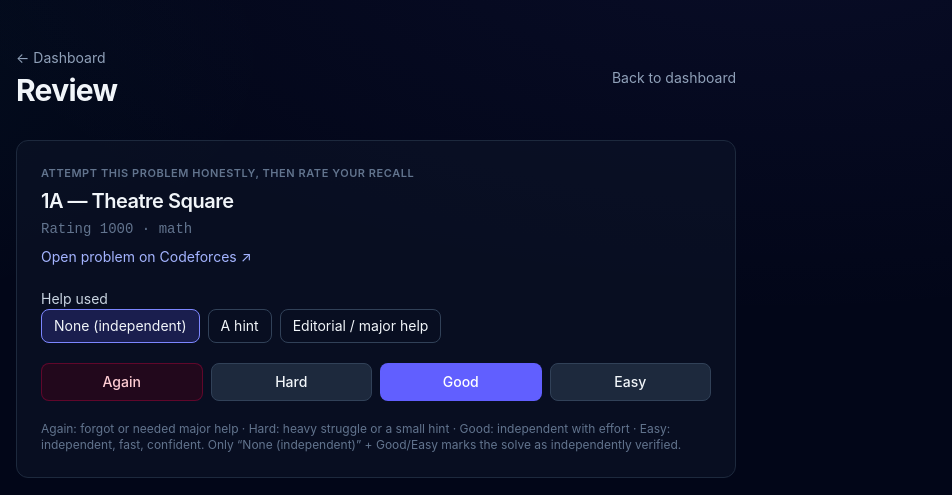
Scenario: successful completion shows only the backend-confirmed next due date
Click the button "Good".
click(461, 382)  # box [380,363,542,401]
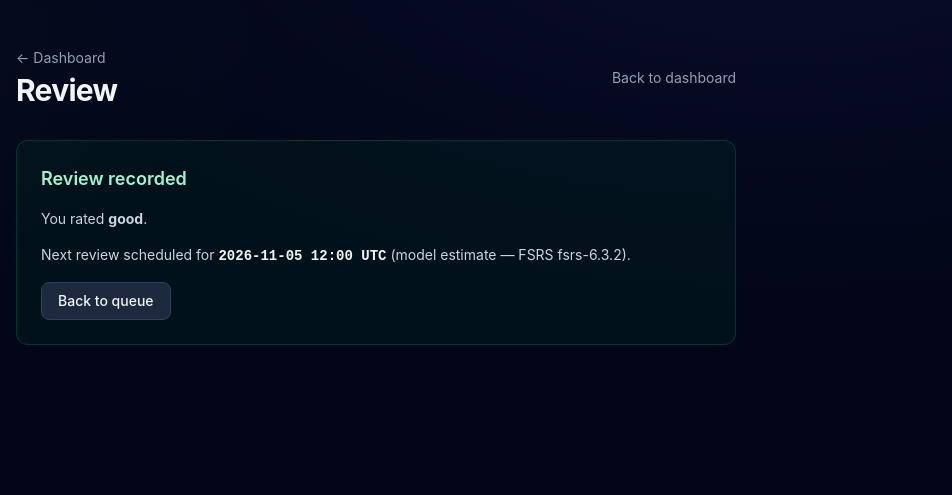
Expected: the heading "Review recorded" is shown, [41,168,187,189]
Expected: the text "2026-11-05 12:00 UTC" is shown, [218,248,386,264]
Expected: the text "fsrs-6.3.2" is shown, [558,246,622,263]
